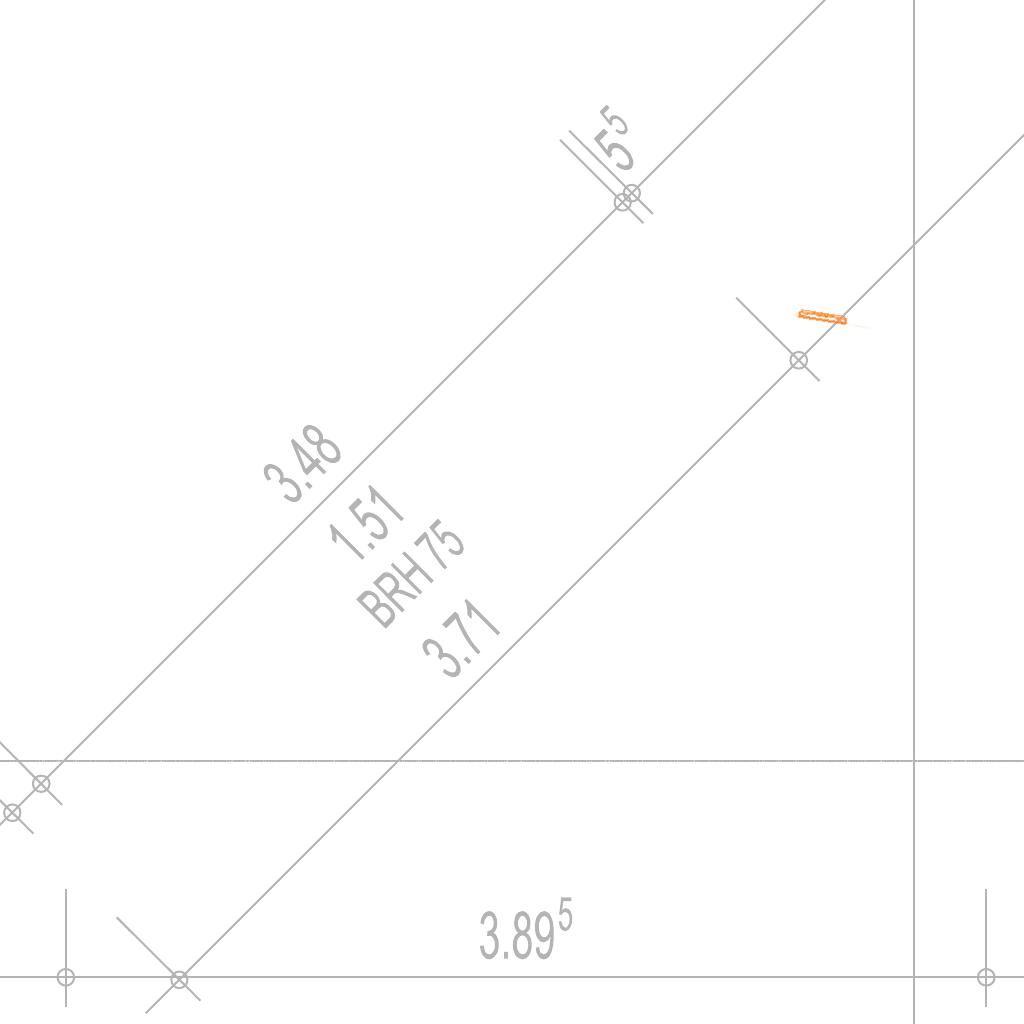Sicherheitsleuchte_Wandeinbau: (795, 306, 875, 331)
